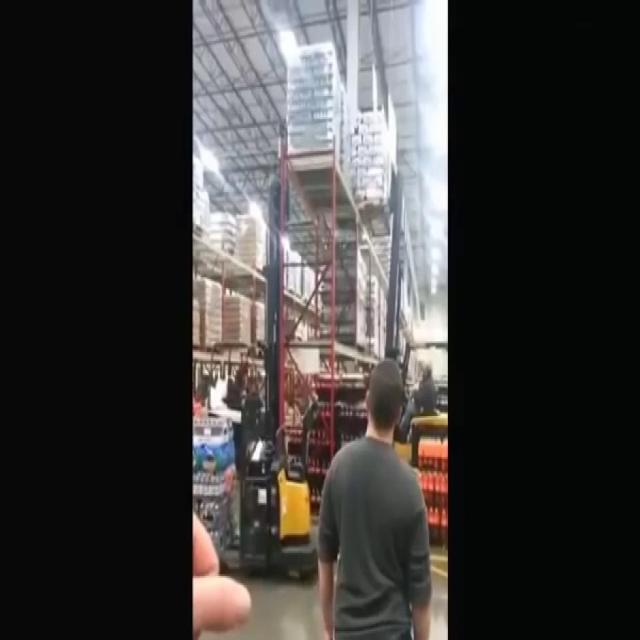forklift: (235, 363, 317, 581)
person: (310, 339, 440, 640), (399, 353, 441, 452)
